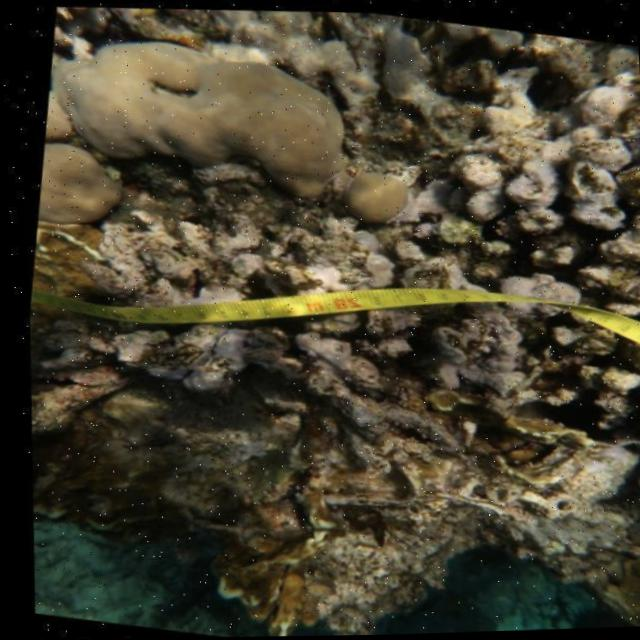Healthy Coral: (26, 20, 346, 214), (23, 127, 137, 239), (325, 158, 432, 231)
